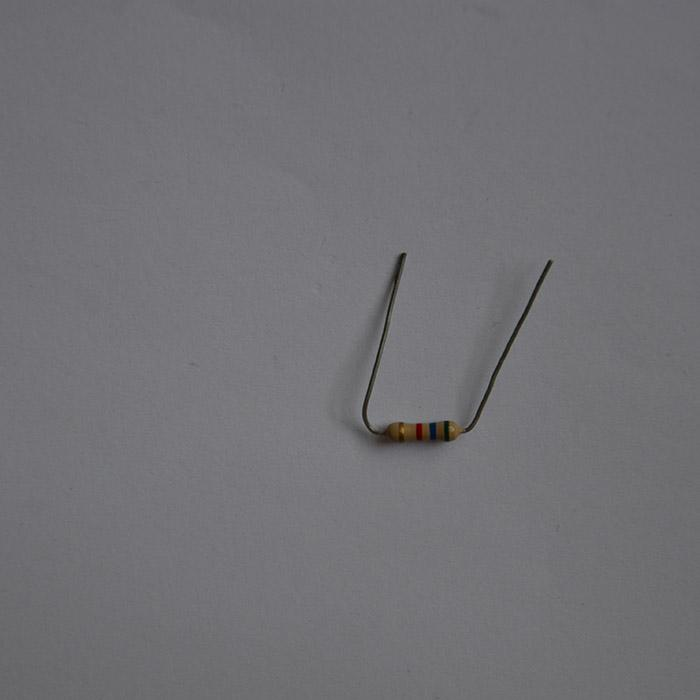resistor: (385, 420, 463, 442)
